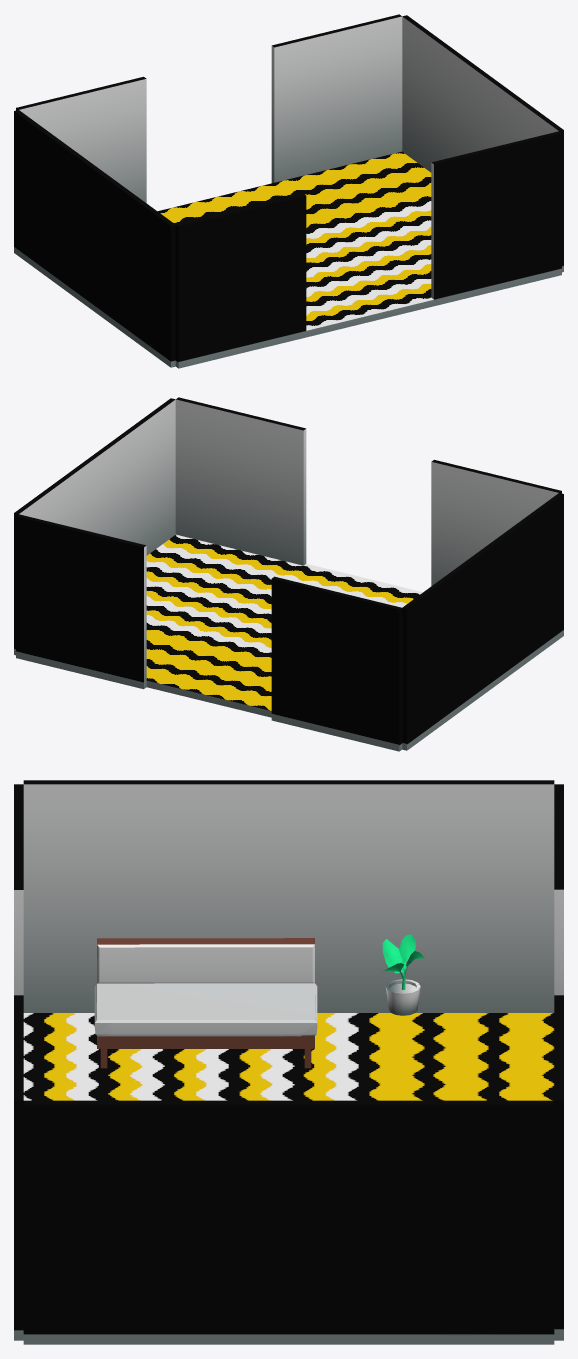
File: office lobby.fbx
3 renders of one model, top to bottom at view 1: azimuth 30°, elevation 25°; view 2: azimuth 150°, elevation 25°; view 3: azimuth 270°, elevation 25°, orthographic. The views are drawn at different scales.
Parts seen in each view (by area): view 1: Cube_1; view 2: Cube_1; view 3: Cube_1, Cylinder, vb_Dieffenbachia_1.
Part boxes in pixels (<box>): Cube_1: <box>14,14,563,368</box>; Cube_1: <box>14,397,563,751</box>; Cube_1: <box>14,780,563,1344</box>; Cylinder: <box>385,979,420,1015</box>; vb_Dieffenbachia_1: <box>382,934,424,989</box>.
Size of the model in its own units: 886 by 306 by 635.
Materials: 4 (4 with a texture image).
